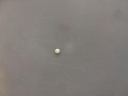Yuvarlak Buskopan: (54, 48, 61, 54)
